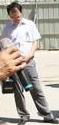boots: (16, 114, 30, 125), (17, 119, 28, 125)
hard-hat: (0, 0, 30, 24)
